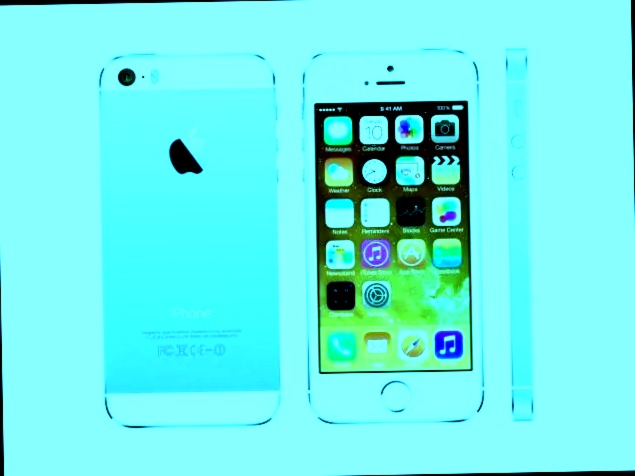iphone: (101, 49, 281, 424), (303, 50, 480, 425), (509, 52, 531, 425)
